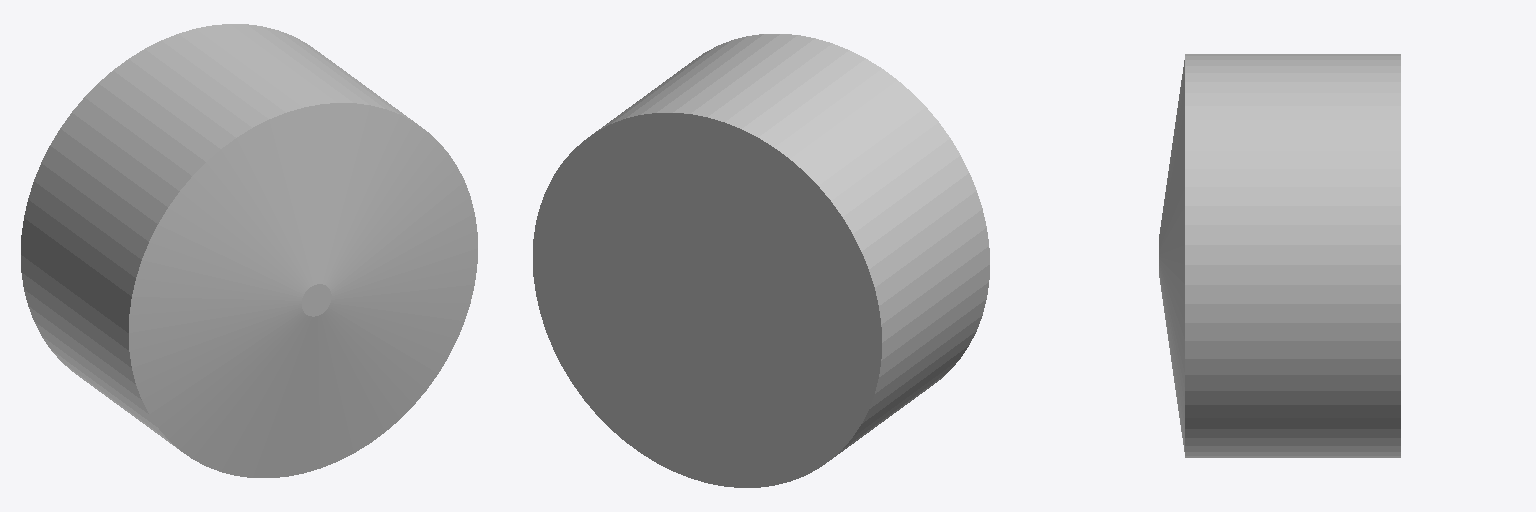
File: Candle4aux.obj
3 renders of one model, left to right at view 1: azimuth 30°, elevation 25°; view 2: azimuth 150°, elevation 25°; view 3: azimuth 270°, elevation 25°, orthographic.
Parts seen in each view (by area): view 1: Candle4aux_Cylinder.020; view 2: Candle4aux_Cylinder.020; view 3: Candle4aux_Cylinder.020.
Part boxes in pixels (bbox=[...]): Candle4aux_Cylinder.020: bbox=[21, 24, 477, 477]; Candle4aux_Cylinder.020: bbox=[533, 34, 989, 487]; Candle4aux_Cylinder.020: bbox=[1159, 54, 1400, 457].
Bounding box in the file's own units: 0.1722 × 0.1722 × 0.1034.